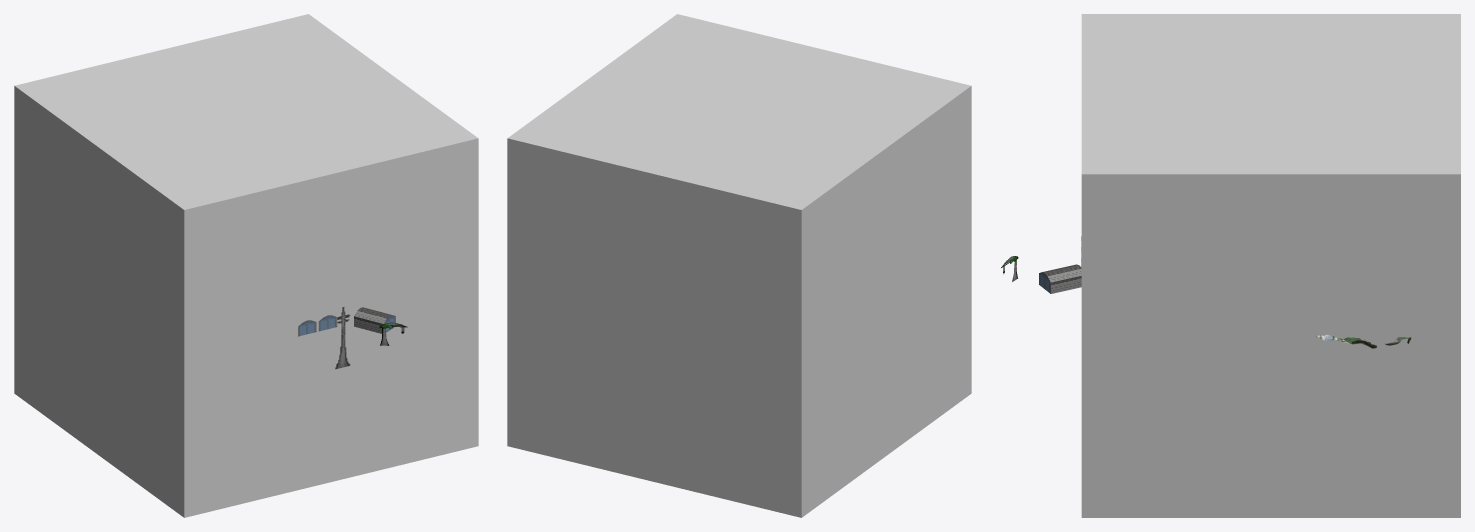
Rendered from Monument Park.glb.
3 renders of one model, left to right at view 1: azimuth 30°, elevation 25°; view 2: azimuth 150°, elevation 25°; view 3: azimuth 270°, elevation 25°, orthographic. The views are drawn at different scales.
Parts seen in each view (by area): view 1: Cube, cOctreeModel.CityOR1; view 2: Cube; view 3: Cube, cOctreeModel.CityOR1.
Boxes of the visible parts, <box> form: Cube: <box>14,14,478,517</box>; cOctreeModel.CityOR1: <box>298,307,407,369</box>; Cube: <box>507,14,971,517</box>; Cube: <box>1081,14,1460,517</box>; cOctreeModel.CityOR1: <box>1001,236,1411,348</box>.
Bounding box in the file's own units: 19.61 × 18.82 × 22.87.
Materials: 98 (97 with a texture image).
